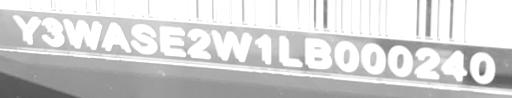letter: (210, 28, 252, 64), (61, 16, 103, 50), (156, 21, 188, 59), (302, 33, 334, 71), (100, 19, 134, 54), (384, 40, 414, 79), (467, 47, 497, 84), (332, 37, 360, 75), (130, 20, 158, 57), (440, 43, 468, 80), (358, 40, 386, 76), (11, 12, 41, 45), (414, 43, 442, 78), (184, 26, 212, 60), (277, 31, 303, 67), (38, 14, 66, 47), (254, 31, 274, 65)
